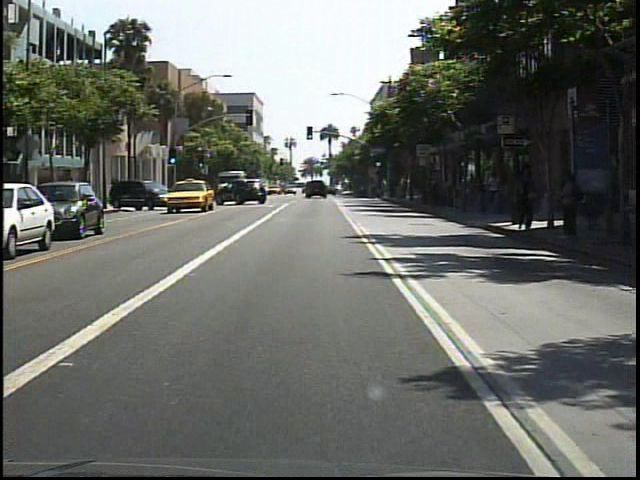person: (551, 167, 585, 242), (509, 161, 541, 238), (484, 167, 502, 209)
